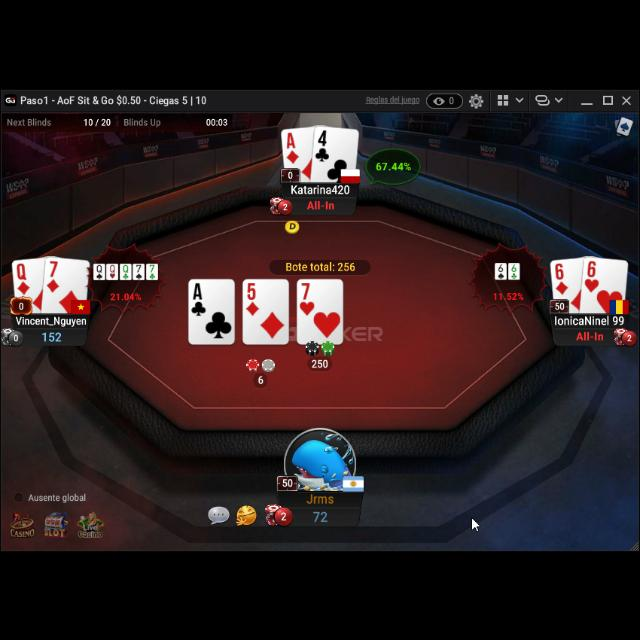4c: (313, 125, 331, 162)
5d: (244, 279, 262, 315)
6d: (554, 260, 570, 292)
6h: (583, 258, 599, 292)
7d: (44, 256, 62, 292), (44, 256, 61, 292)
7h: (14, 260, 34, 294), (299, 279, 315, 315)
Ac: (190, 278, 208, 316)
Ad: (285, 128, 301, 162)
Qd: (14, 260, 34, 294)
all_in_symbol: (576, 326, 604, 340), (306, 198, 336, 210)
bet_text: (310, 357, 330, 368), (256, 372, 266, 384)
dealer: (284, 216, 300, 234)
pot_text: (284, 259, 356, 271)
stack_text: (42, 327, 64, 341), (311, 506, 329, 520)
